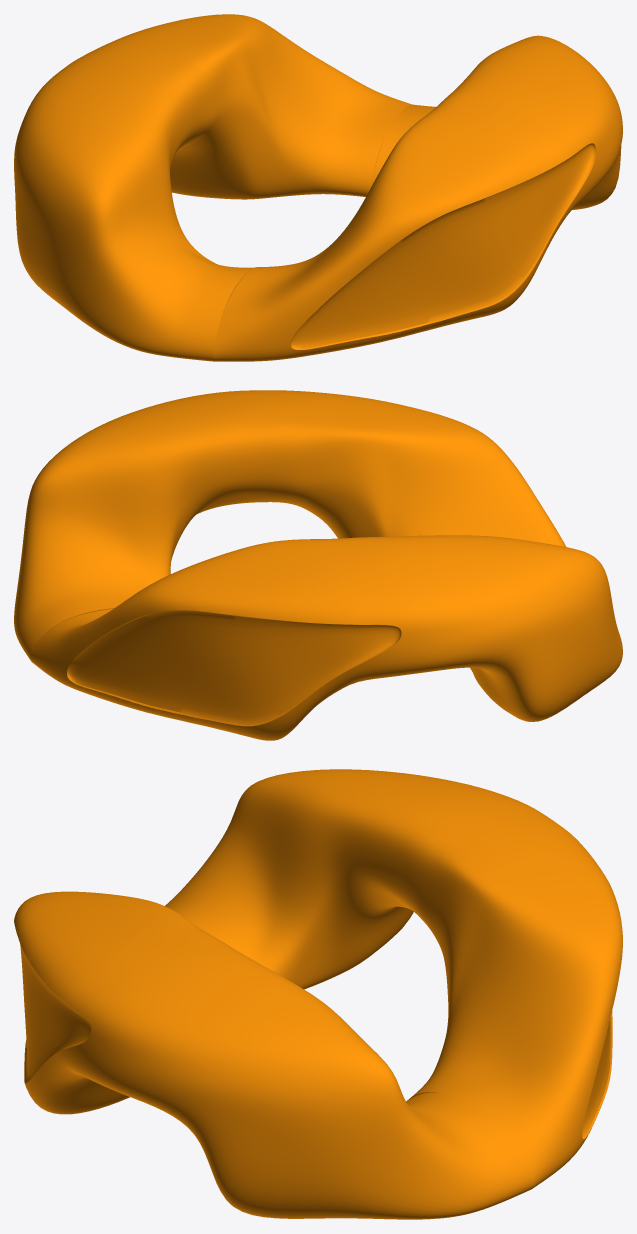
3 renders of one model, top to bottom at view 1: azimuth 30°, elevation 25°; view 2: azimuth 150°, elevation 25°; view 3: azimuth 270°, elevation 25°, orthographic. The views are drawn at different scales.
Parts seen in each view (by area): view 1: B5-24-古巴链-OK-版-倒铜 1.011, B5-24-古巴链-OK-版-倒铜 1.014; view 2: B5-24-古巴链-OK-版-倒铜 1.011, B5-24-古巴链-OK-版-倒铜 1.014; view 3: B5-24-古巴链-OK-版-倒铜 1.011, B5-24-古巴链-OK-版-倒铜 1.014.
Boxes of the visible parts, x1,y1,x2,y2 form: B5-24-古巴链-OK-版-倒铜 1.011: (14,14,411,361); B5-24-古巴链-OK-版-倒铜 1.014: (213,35,622,361); B5-24-古巴链-OK-版-倒铜 1.011: (30,535,622,740); B5-24-古巴链-OK-版-倒铜 1.014: (14,390,566,660); B5-24-古巴链-OK-版-倒铜 1.011: (165,769,622,1187); B5-24-古巴链-OK-版-倒铜 1.014: (14,891,534,1219).
Size of the model in its own units: 0.1927 by 0.0568 by 0.1582.
